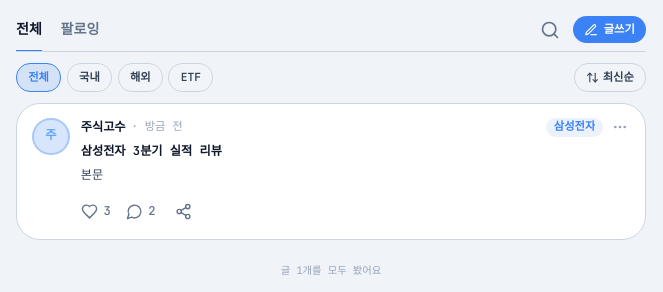
Test: 1 — 위쪽 두 줄 › 시장 칩을 누르면 그 시장만 받는다 — 손가락(마우스를 올리지 않고)으로 눌러도
Expected: the text "삼성전자 3분기 실적 리뷰" is shown, [81, 143, 222, 159]
Step 1. Click the tab "해외" → (140, 78), box [118, 63, 163, 92]
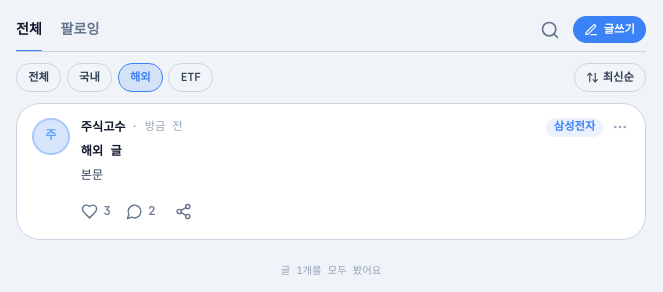
Now the text "해외 글" is shown, box [81, 143, 122, 159]
